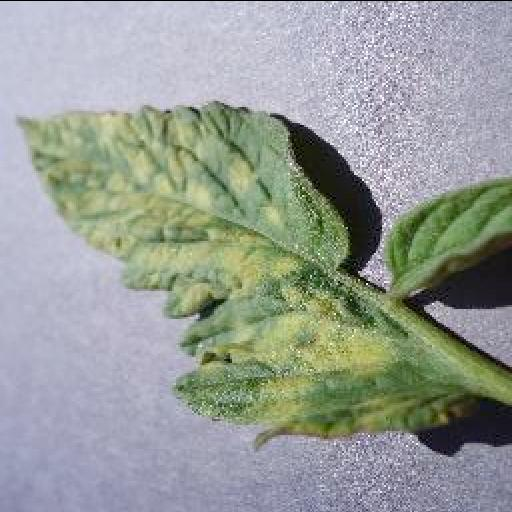disease_tomato: (16, 101, 462, 442)
